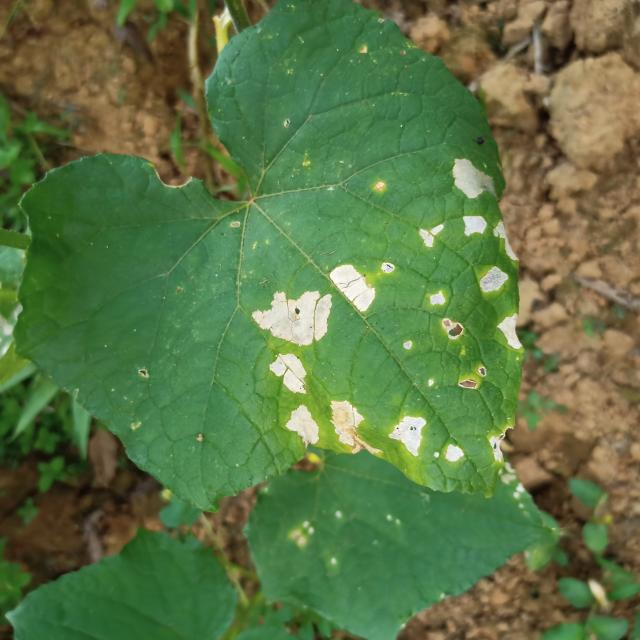disease_cucumber: (255, 265, 375, 345), (420, 157, 486, 245), (389, 416, 466, 464), (287, 401, 362, 448), (484, 219, 515, 298), (426, 290, 465, 340), (269, 354, 309, 397), (498, 312, 520, 350)
